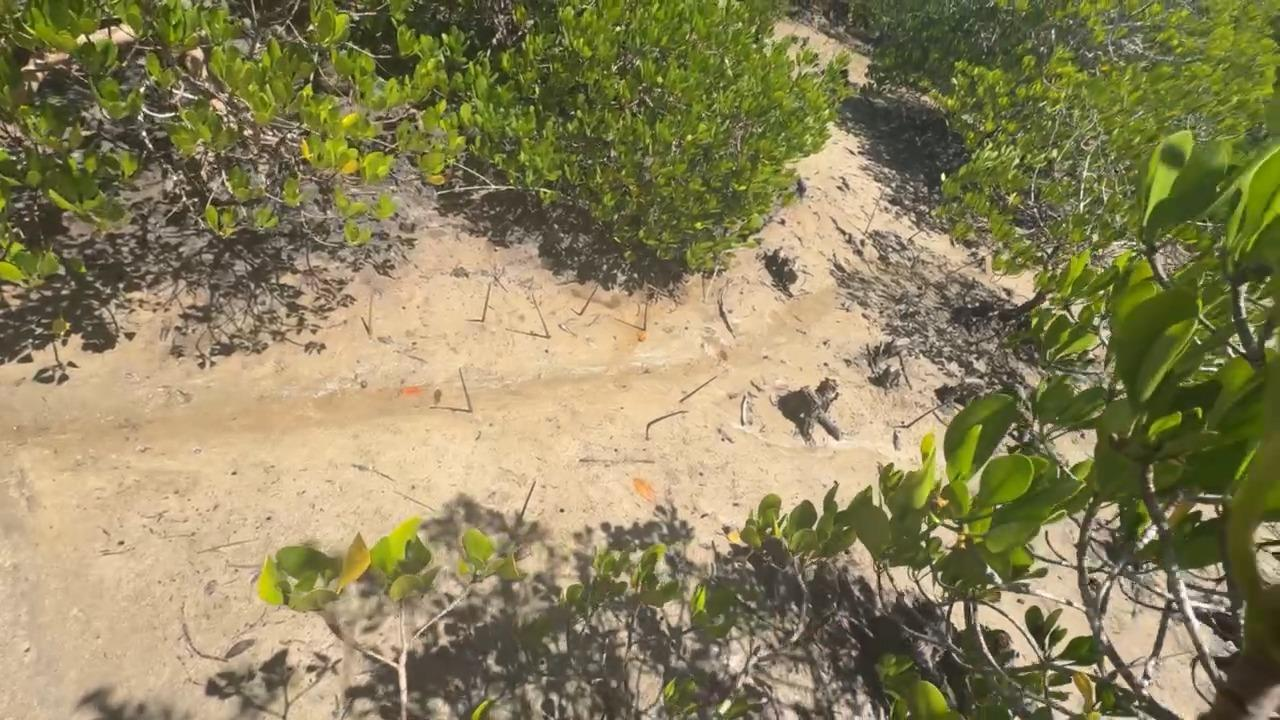Tree: (679, 376, 717, 403), (907, 403, 947, 428), (865, 188, 887, 233), (517, 480, 536, 526), (532, 295, 551, 339), (458, 367, 473, 413), (647, 411, 690, 427), (579, 284, 599, 316), (704, 265, 720, 303), (970, 332, 1000, 347), (481, 282, 492, 322), (368, 294, 373, 340), (908, 228, 924, 241), (643, 303, 648, 331)
